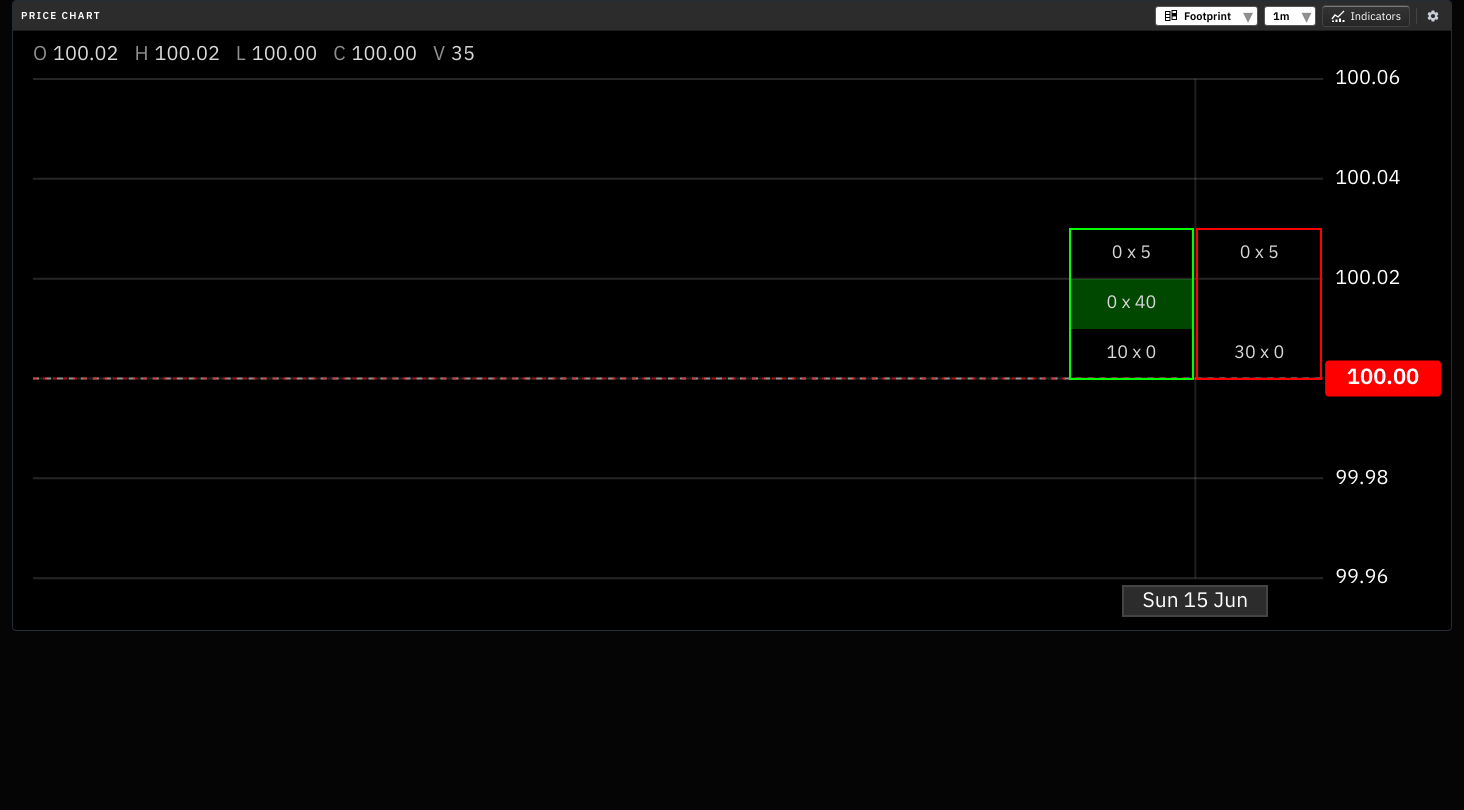
Scenario: footprint chart type (P19-6) › the band offers only 1m and 5m in footprint
Click the button with test id "pc-band-size-trigger". click: (1290, 16)
box: [1264,6,1316,26]
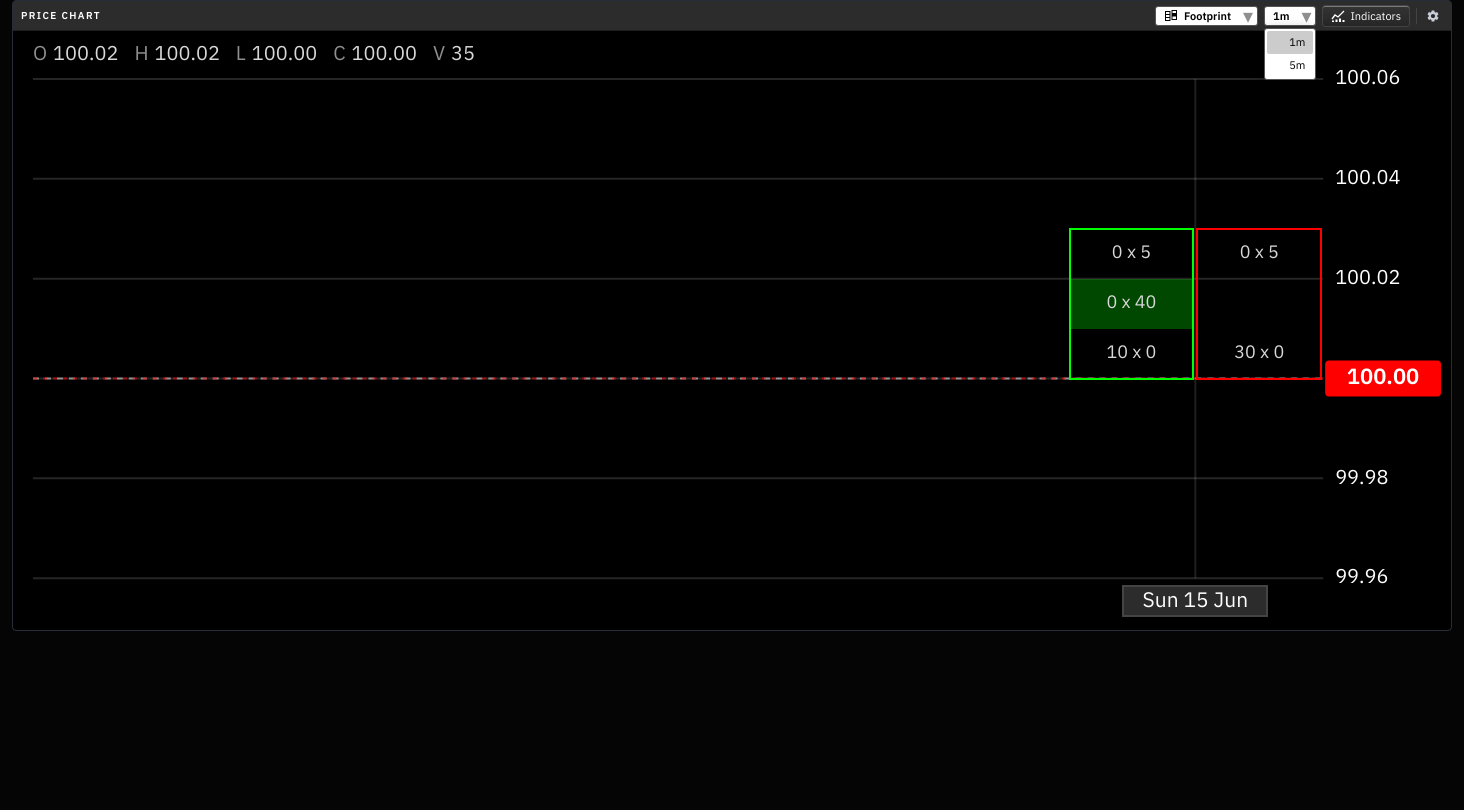
Now the option with test id "pc-band-size-opt-1m" is shown, box [1267,30,1314,54]
Now the option with test id "pc-band-size-opt-5m" is shown, box [1289,58,1305,72]
